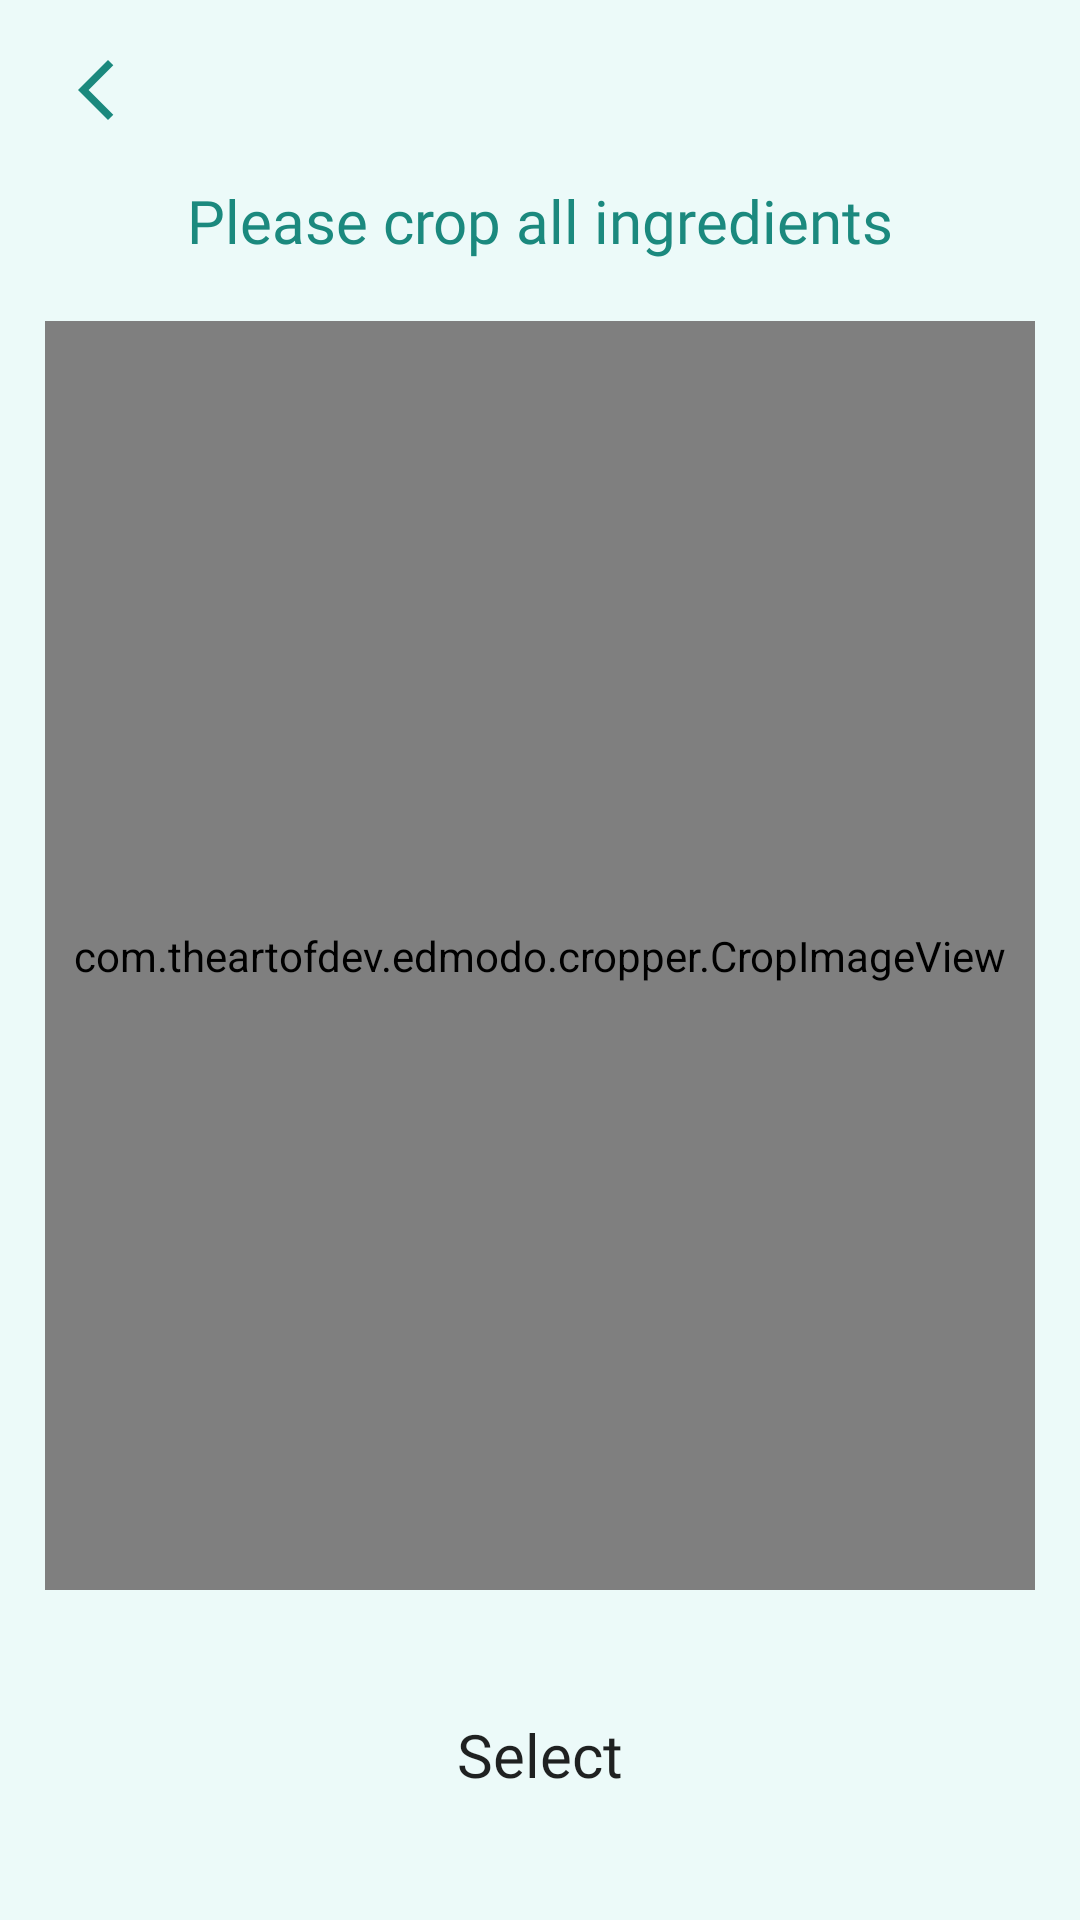

Where icons sit on this 1080x1920 app screen, as (left=x1, top=y1, right=x2, bottom=y2):
arrow: (left=78, top=60, right=113, bottom=120)
